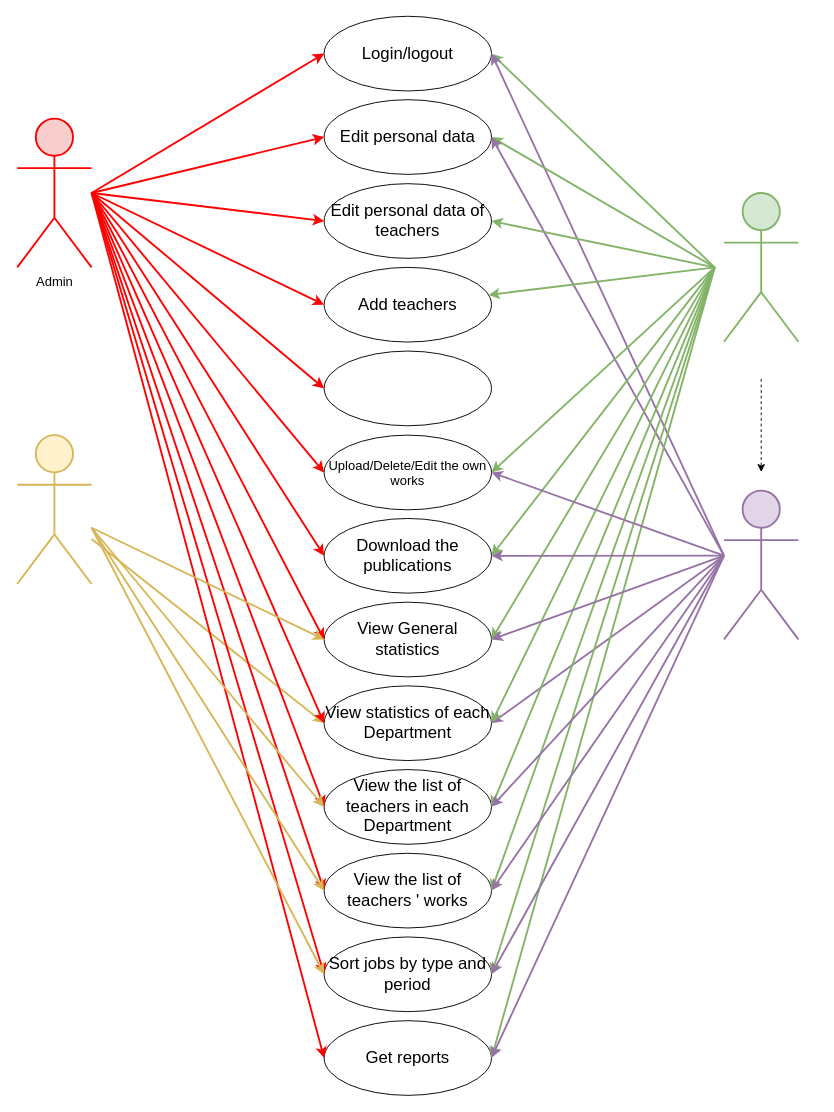
Image size: 834x1112. Some labels were removed from this diagram. Each missing label, with the centre of its shape:
"Guest" goes at (54,509).
"Head of department" goes at (761,267).
"Teacher" goes at (761,564).
"Upload/Delete/Edit the works" goes at (407,388).
